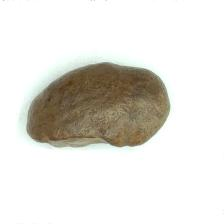NG: (33, 129, 133, 152)
